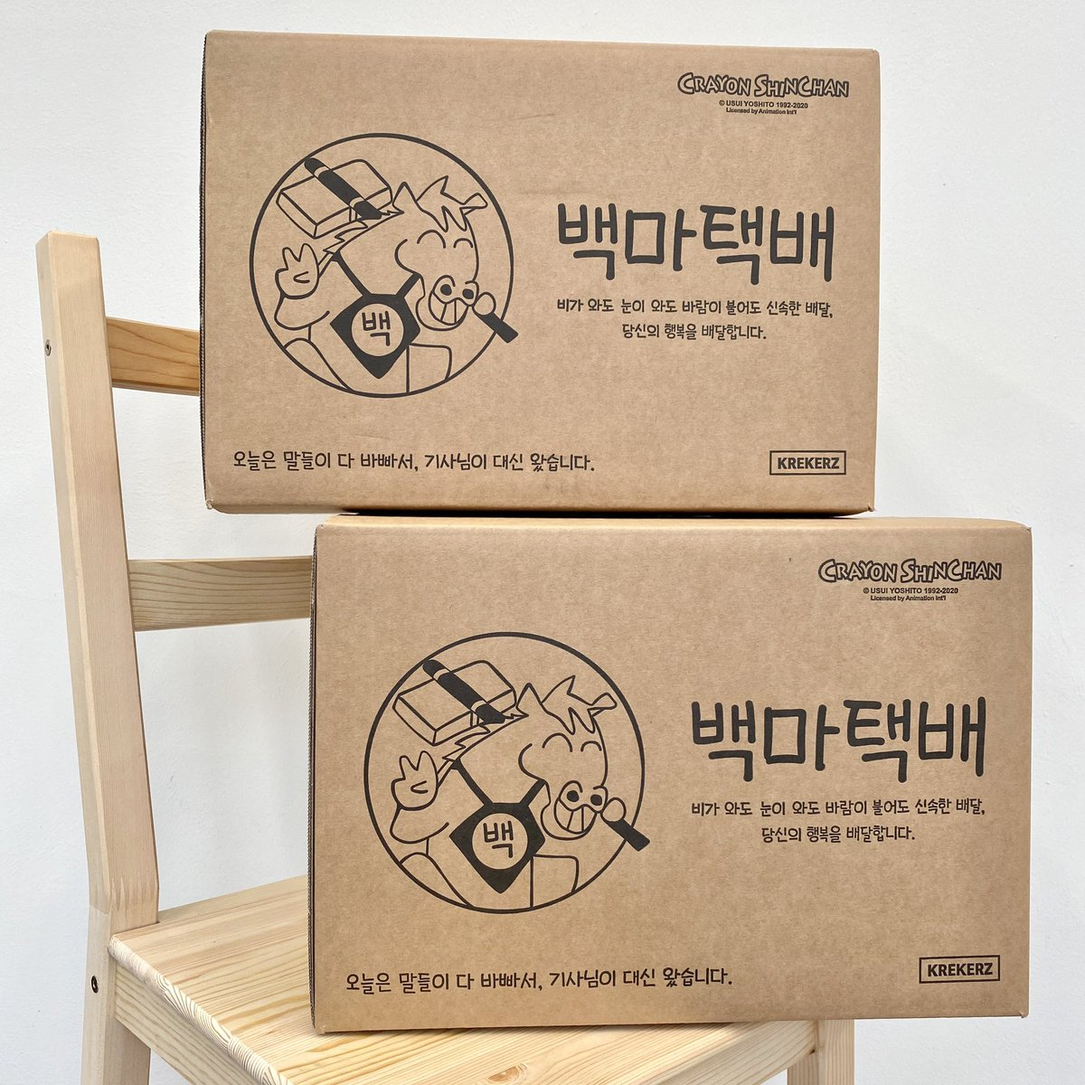undamaged: (194, 35, 1044, 1028)
